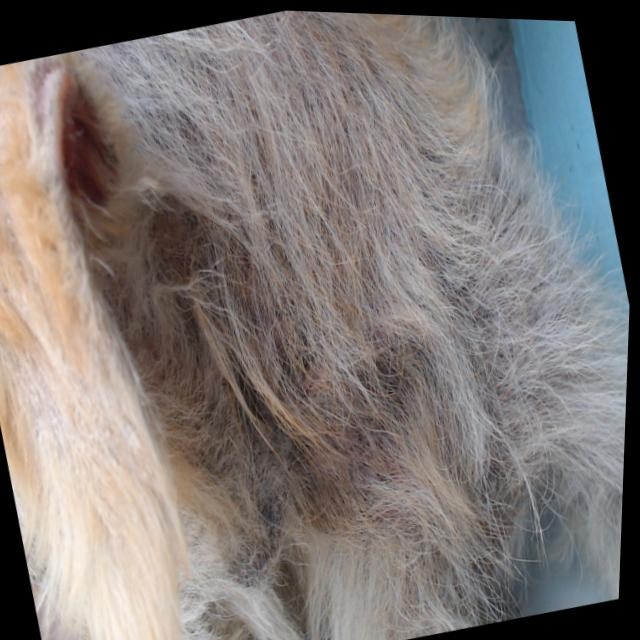demodicosis: (7, 62, 87, 150)
